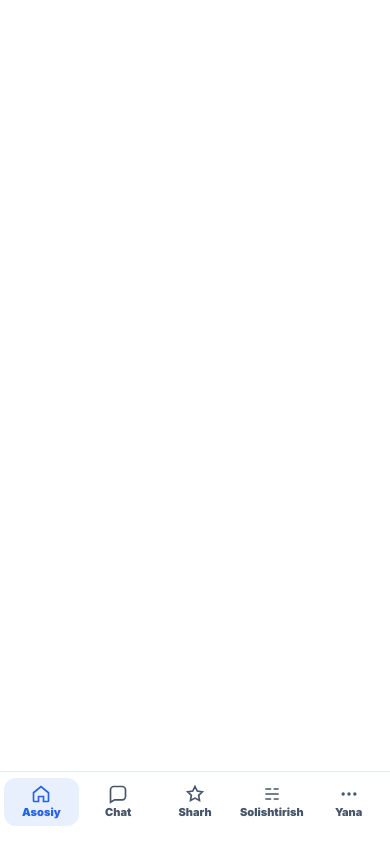
Test: DashboardBottomNav › closes more sheet with Escape
Step 1. Click the button "Yana" → (349, 802), box [311,778,386,826]
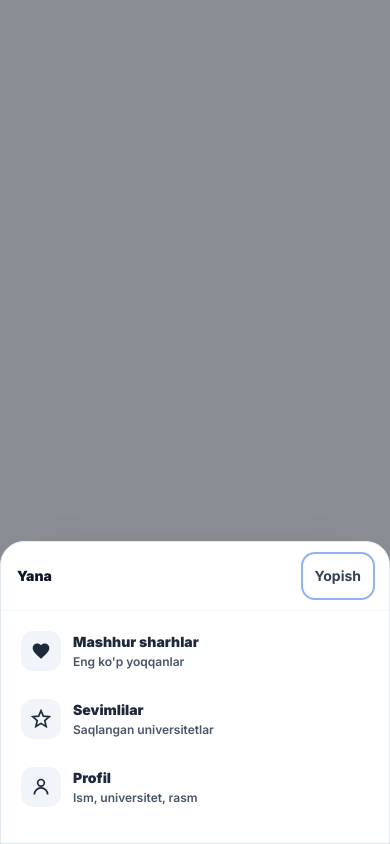
Expected: the element with test id "dashboard-bottom-nav-more" is shown
Step 2. Press Escape
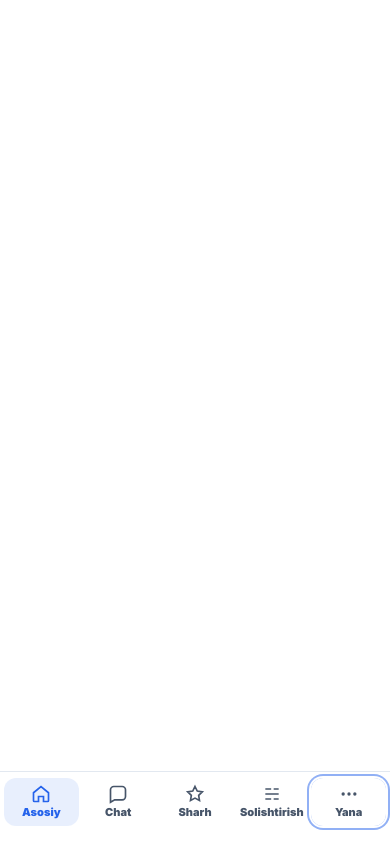
Expected: the element with test id "dashboard-bottom-nav-more" is gone
